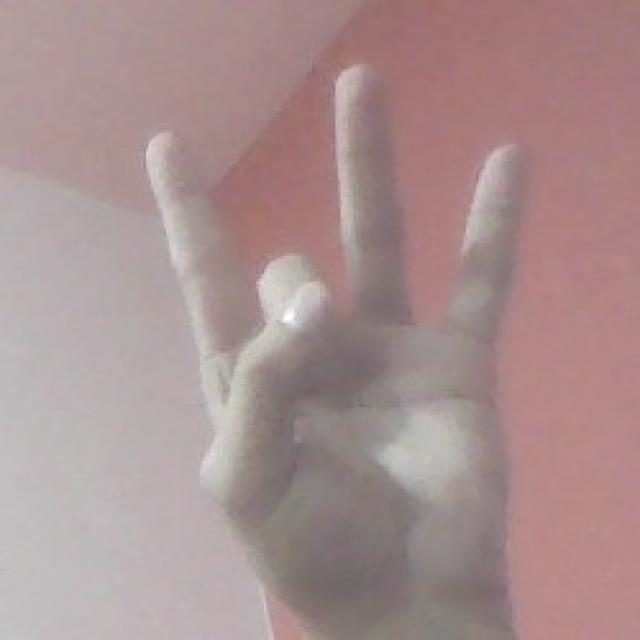Numeric-8: (147, 62, 525, 626)
